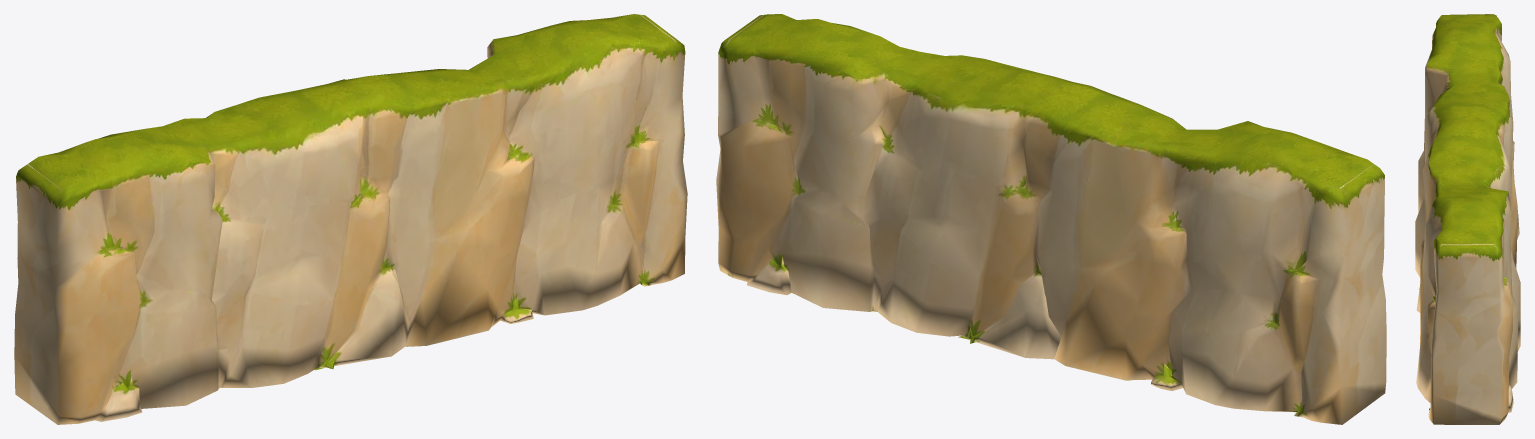
File: camp_falaise_v1.glb
The picture shows the model from 3 angles, left to right: view 1: azimuth 30°, elevation 25°; view 2: azimuth 150°, elevation 25°; view 3: azimuth 270°, elevation 25°; orthographic projection. The views are drawn at different scales.
Bounding box in the file's own units: 0.9595 × 0.3598 × 0.1801.
1 material, 1 textured.
